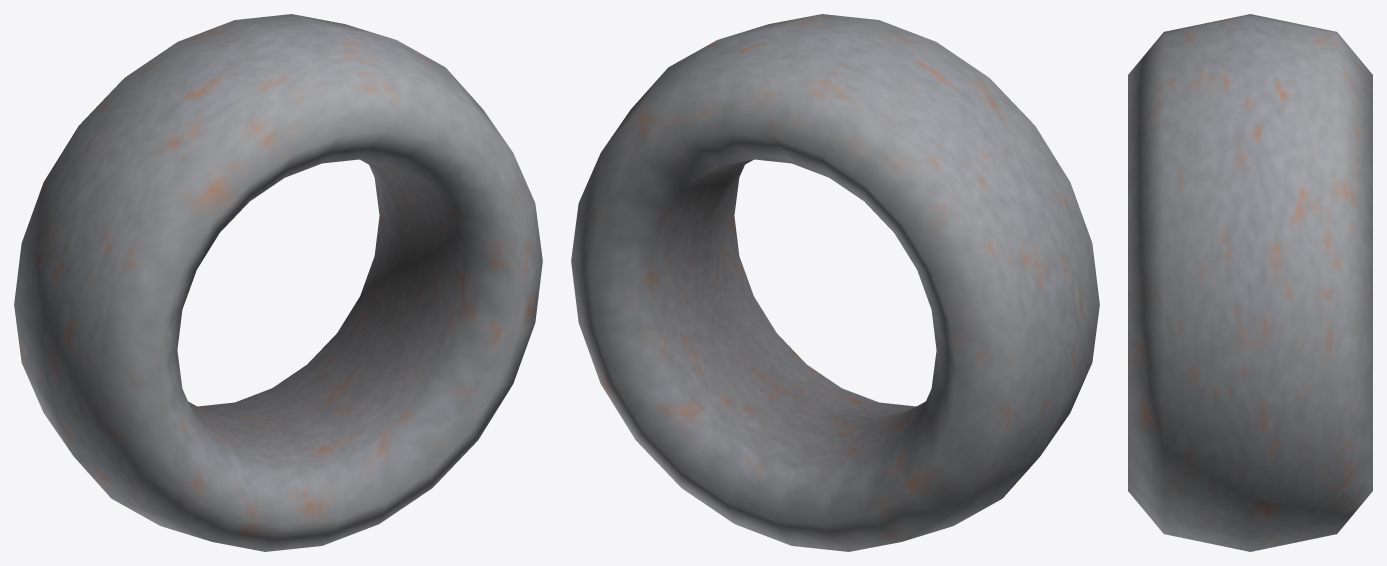
File: gnasher_link.glb
The picture shows the model from 3 angles, left to right: view 1: azimuth 30°, elevation 25°; view 2: azimuth 150°, elevation 25°; view 3: azimuth 270°, elevation 25°; orthographic projection.
Visible parts, largest first — view 1: gnasher_link; view 2: gnasher_link; view 3: gnasher_link.
Part boxes in pixels (x1,y1,x2,y2): gnasher_link: (14, 14, 542, 551); gnasher_link: (571, 14, 1099, 551); gnasher_link: (1128, 14, 1372, 551).
Size of the model in its own units: 0.194 by 0.194 by 0.088.
Materials: 1 (1 with a texture image).
